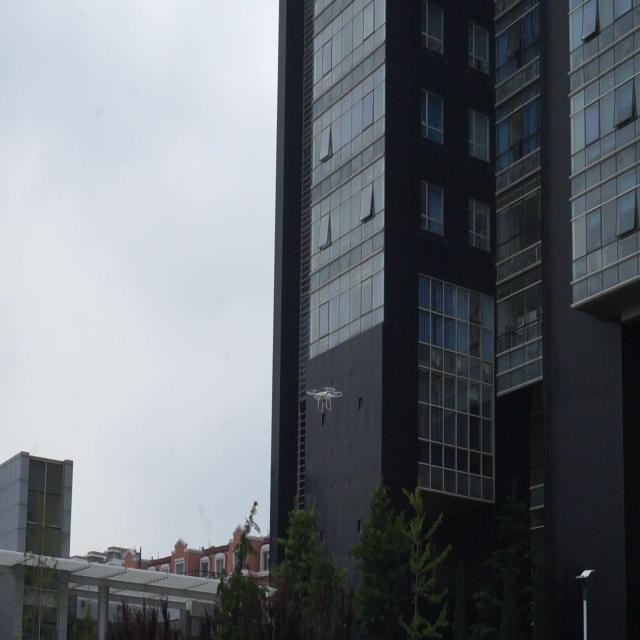UAV: (306, 386, 343, 414)
